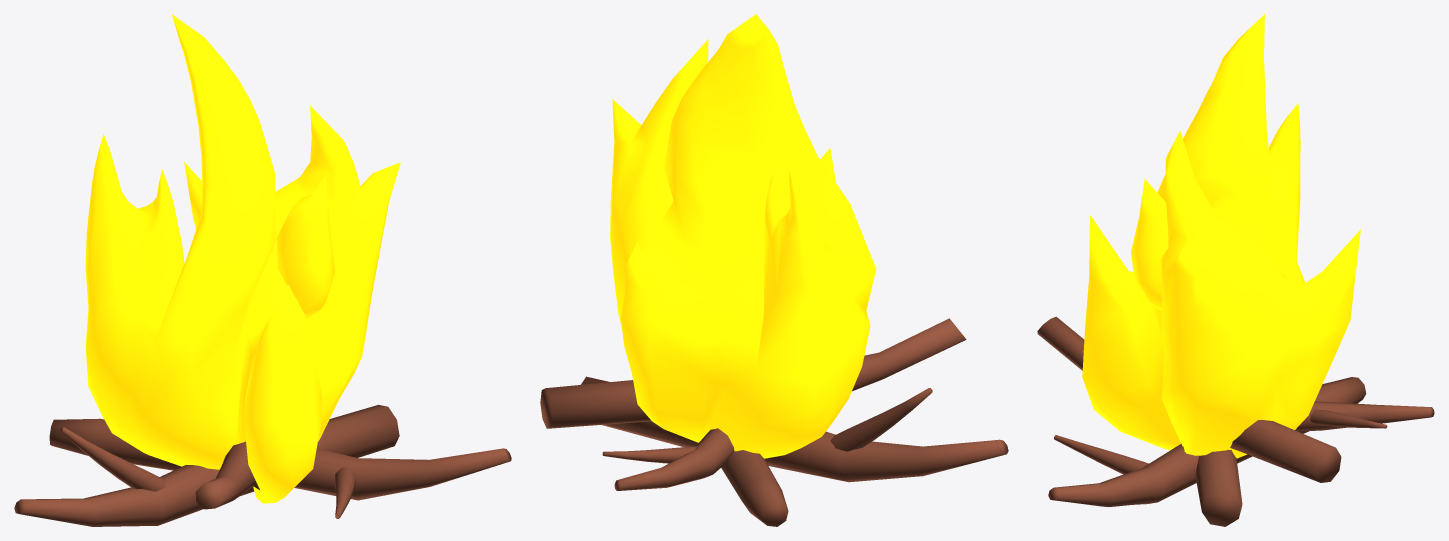
The model's file is Fire_01.fbx.
The picture shows the model from 3 angles, left to right: view 1: azimuth 30°, elevation 25°; view 2: azimuth 150°, elevation 25°; view 3: azimuth 270°, elevation 25°; orthographic projection. The views are drawn at different scales.
Visible parts, largest first — view 1: Fire_01; view 2: Fire_01; view 3: Fire_01.
Part boxes in pixels (box(x1,y1,x2,y2)): Fire_01: box(14, 14, 511, 526); Fire_01: box(540, 14, 1008, 526); Fire_01: box(1037, 14, 1434, 526).
Bounding box in the file's own units: 60.34 × 63.53 × 52.51.
